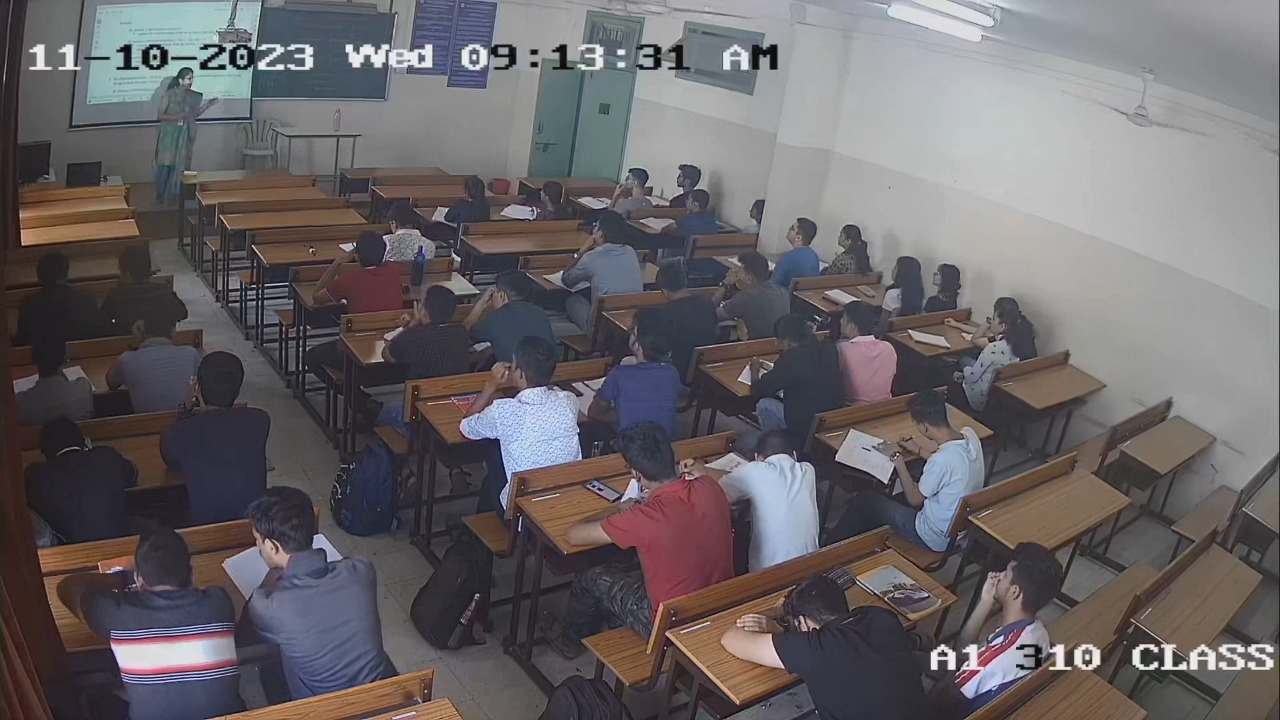cell-phones: (581, 477, 621, 508), (556, 379, 585, 400), (754, 359, 776, 373)
person: (562, 426, 736, 599), (583, 309, 686, 433), (748, 313, 844, 424)
